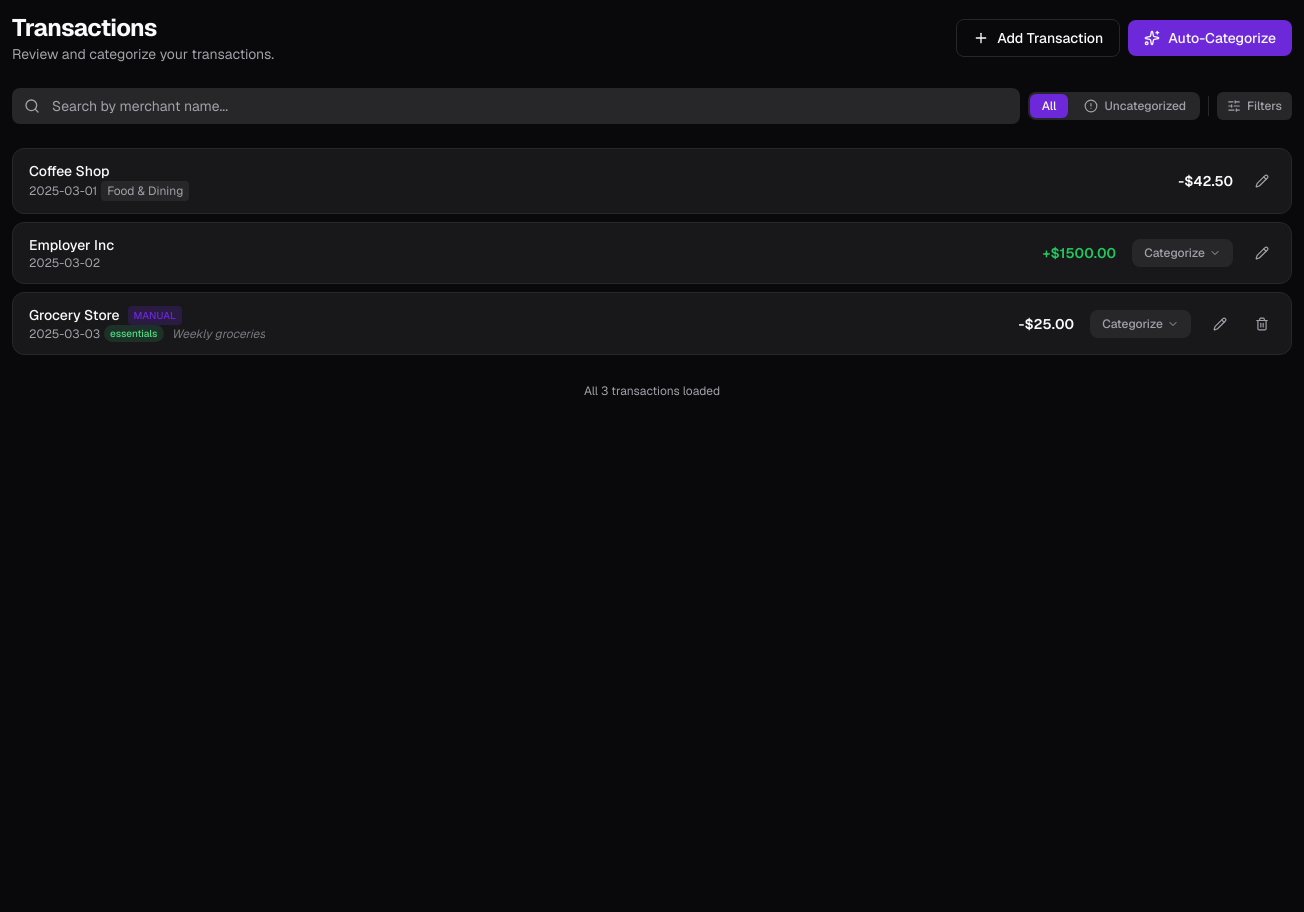
TransactionsPage › shows rule suggestion after categorizing a transaction
expect the text "Employer Inc" is shown: met, box [29,235,114,255]
Click the button "Categorize" next to "$1500.00" at (1183, 253), box [1132,239,1233,267]
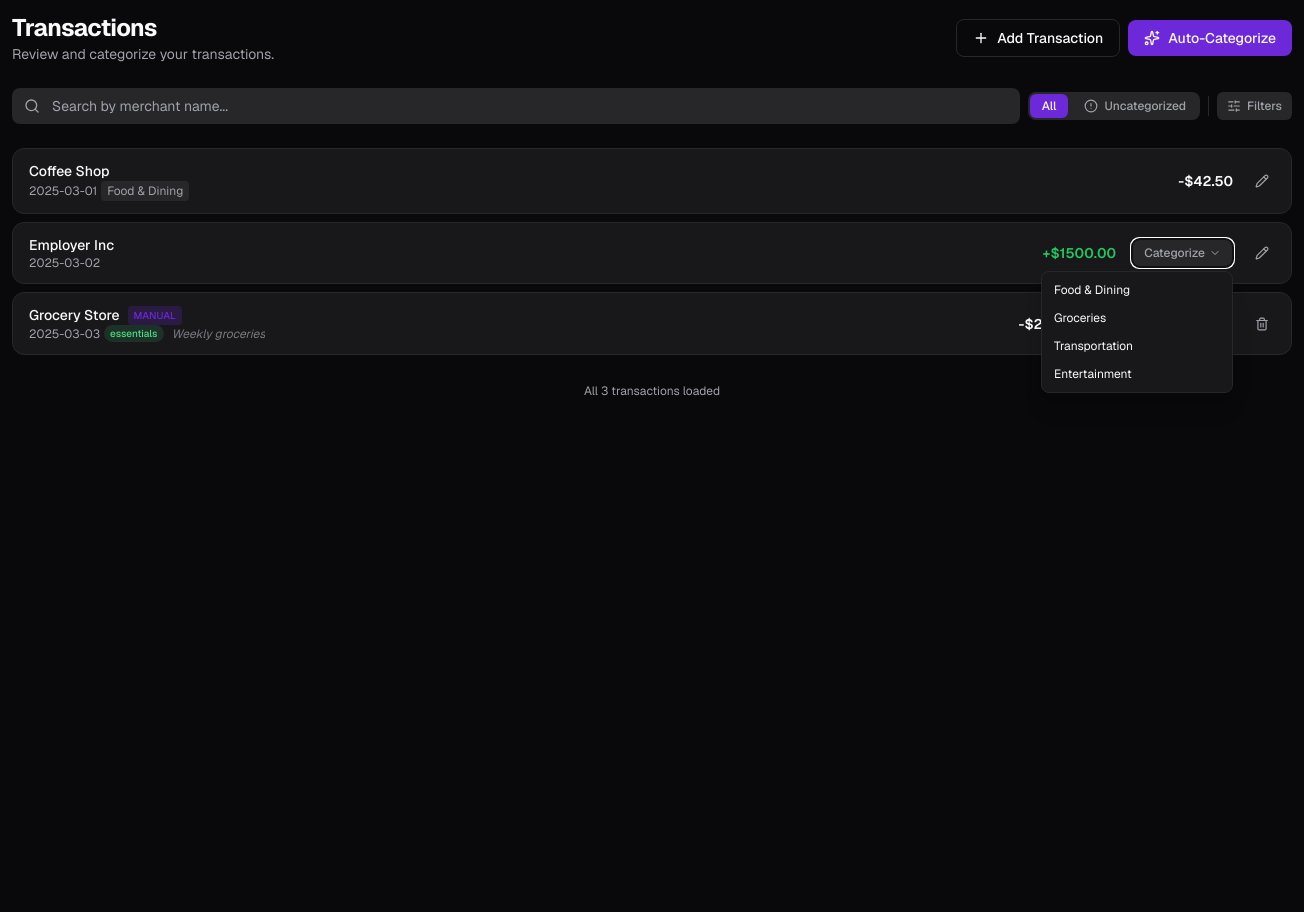
Click the button "Transportation" at (1137, 346), box [1042,332,1232,360]
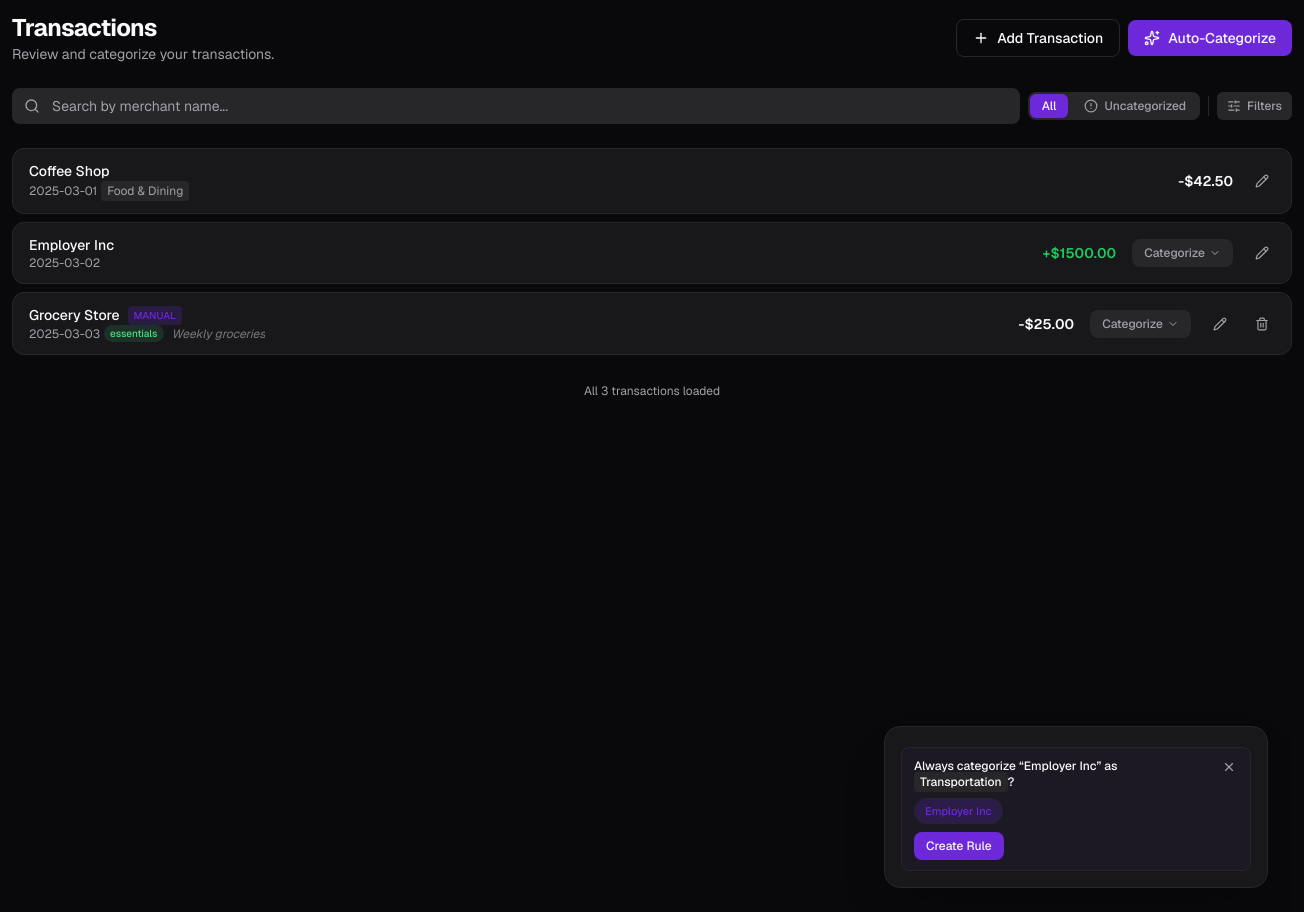
expect the text "Always categorize “Employer Inc” as Transportation?" is shown: met, box [914,758,1117,792]
